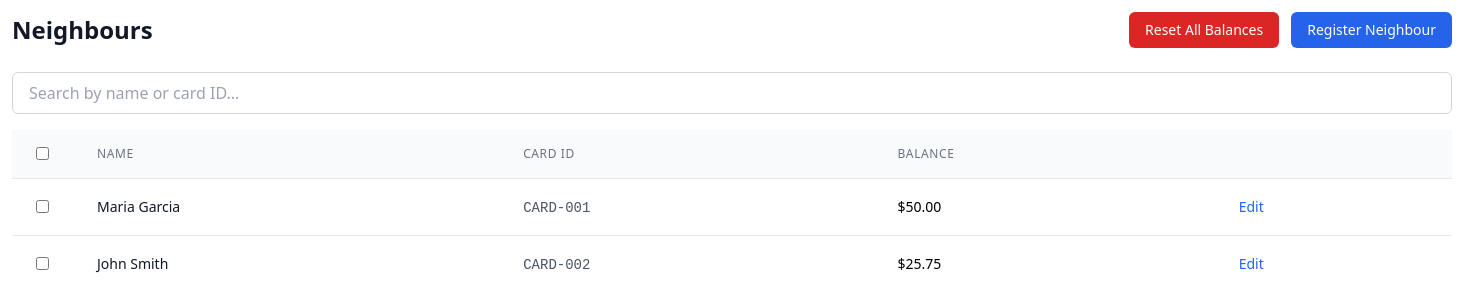
Test: NeighbourListPage › selecting rows shows bulk edit button with count
This screenshot has width=1464, height=290.
Click the checkbox with test id "select-row-1".
click(42, 206)  # box [36, 200, 49, 213]
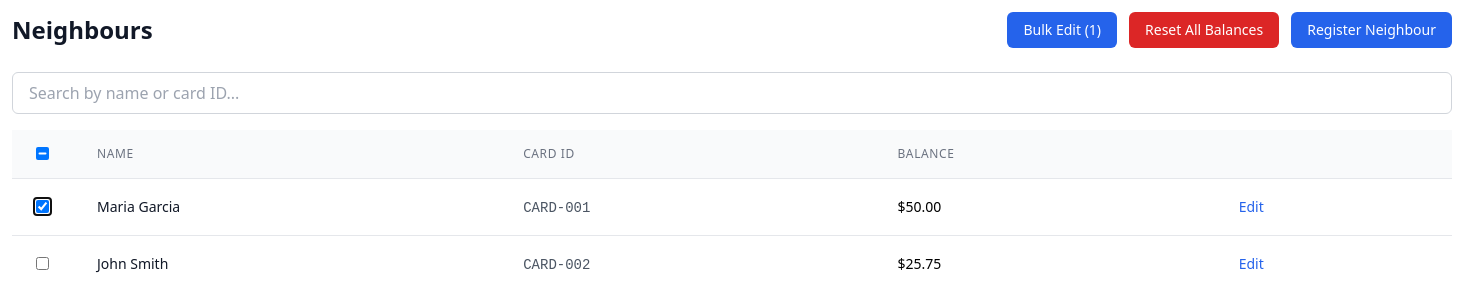
Click the checkbox with test id "select-row-2".
click(42, 264)  # box [36, 257, 49, 270]
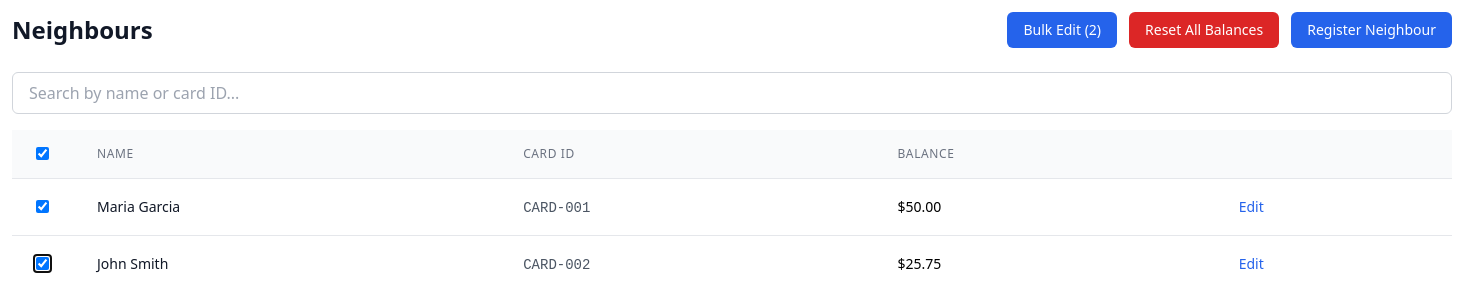
Expected: the button with test id "bulk-edit-button" reads "Bulk Edit (2)", [1008, 12, 1117, 48]
